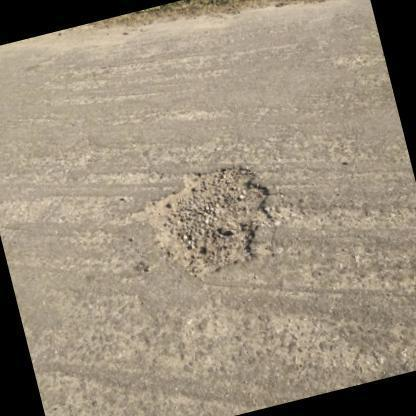pothole: (137, 164, 281, 282)
